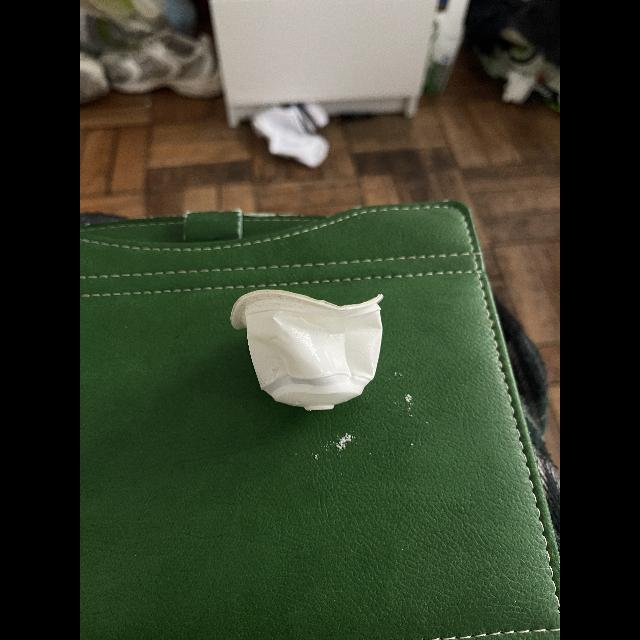damaged_capsule: (222, 275, 404, 417)
